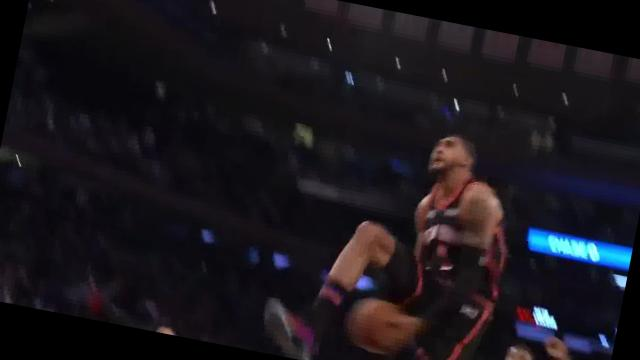ball-handler: (238, 73, 541, 360)
